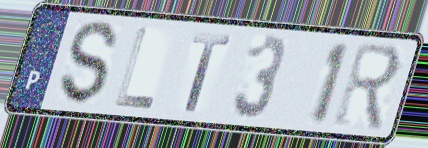1: (310, 40, 352, 127)
3: (232, 33, 287, 123)
L: (112, 24, 157, 111)
R: (331, 40, 405, 135)
S: (58, 19, 120, 109)
T: (184, 31, 233, 115)
